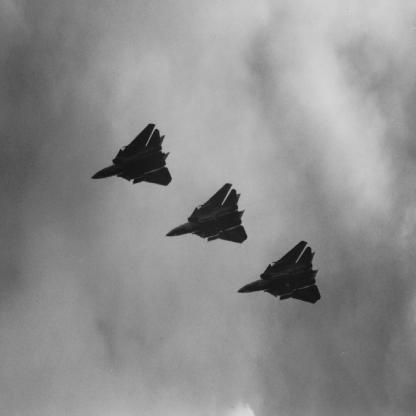F14: (237, 241, 322, 305), (165, 184, 249, 246), (91, 124, 173, 187)
